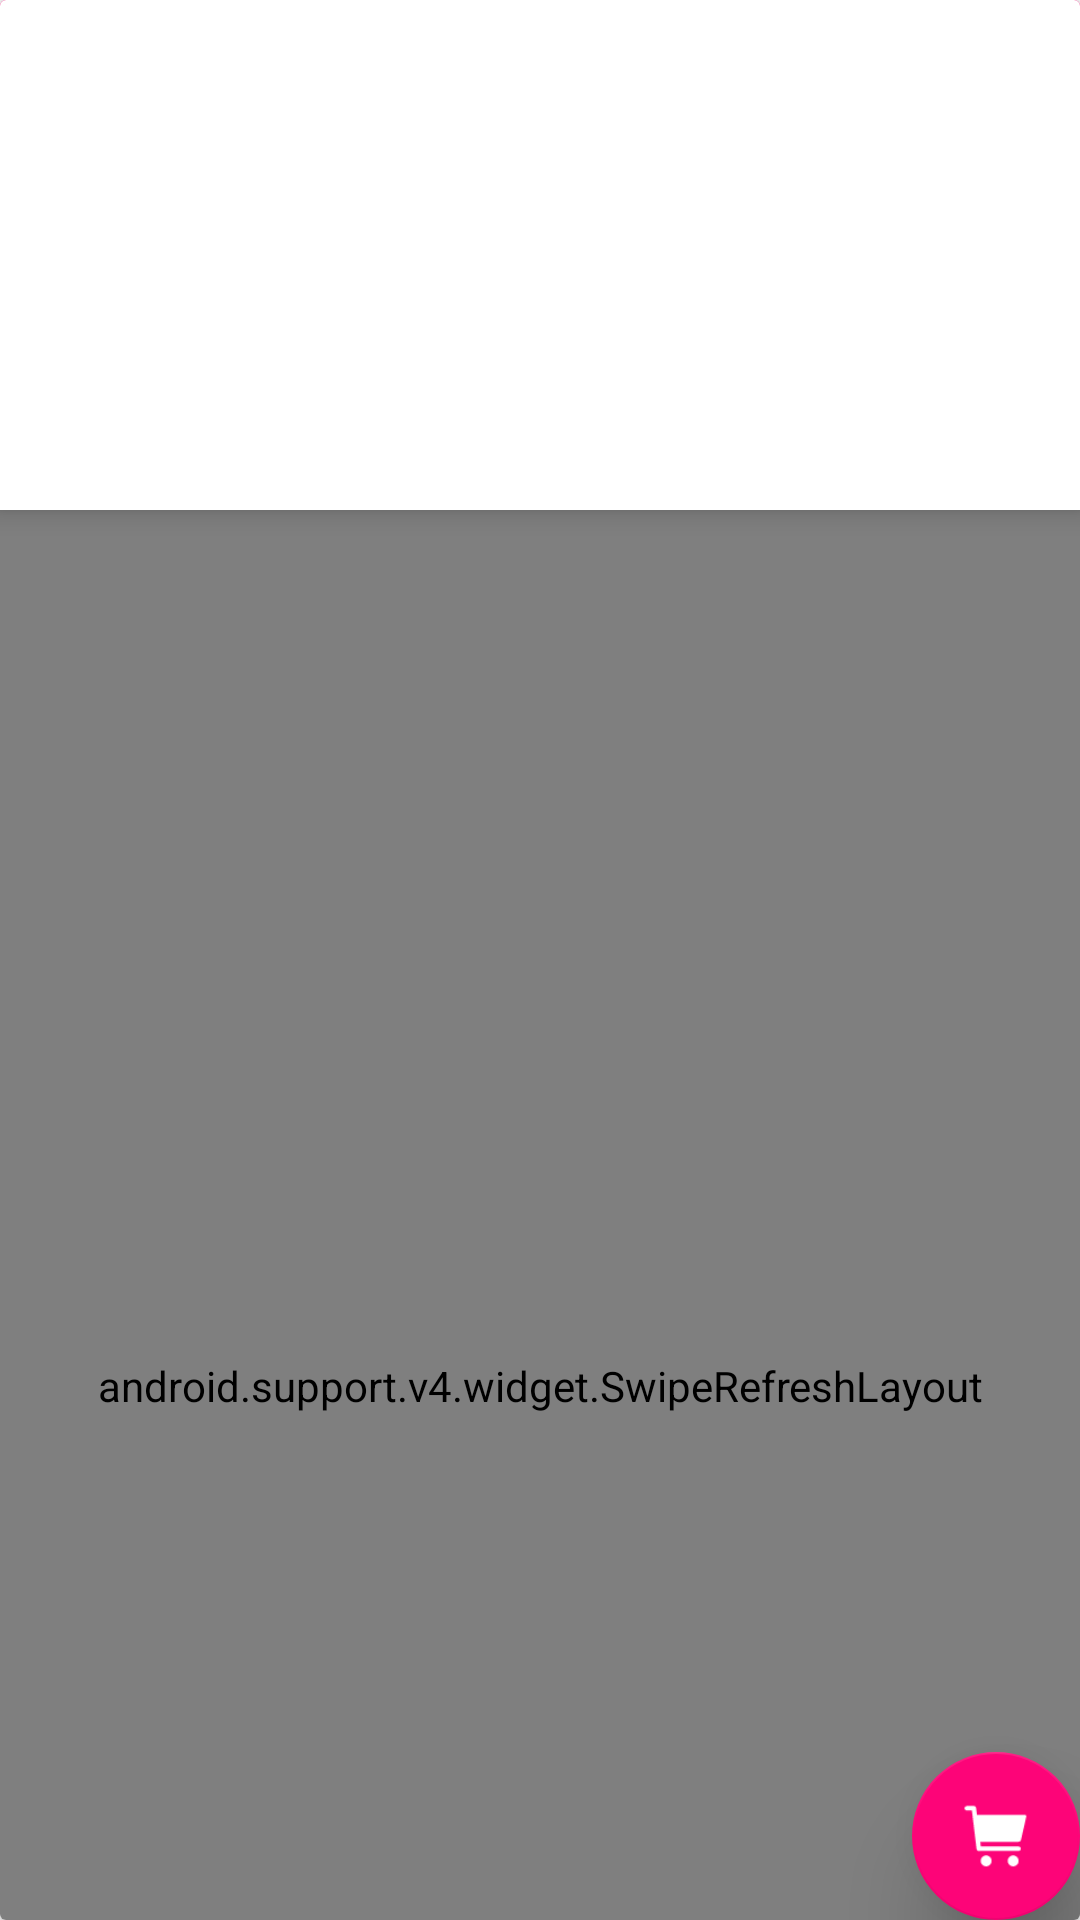

Named icons in this screenshot (1080x1920) and their bounding boxes, (x1, y1, x2, y2):
shop car: (912, 1752, 1080, 1920)
